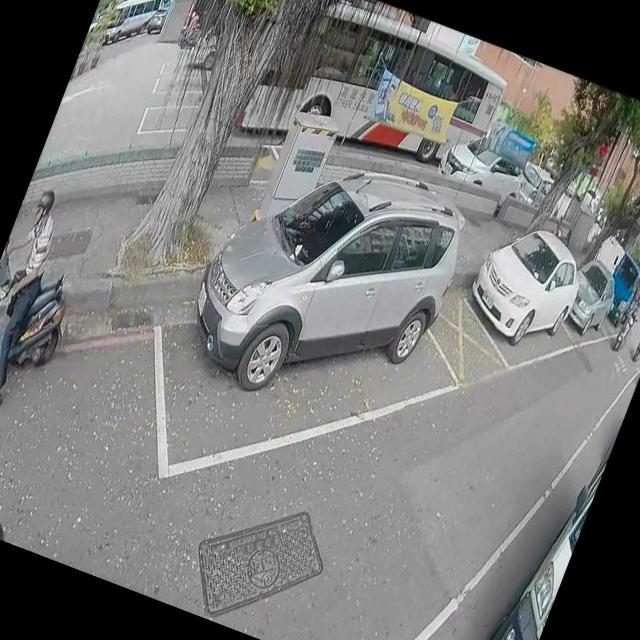person: (0, 177, 82, 417), (618, 299, 640, 340), (0, 500, 16, 542), (184, 8, 202, 36)
